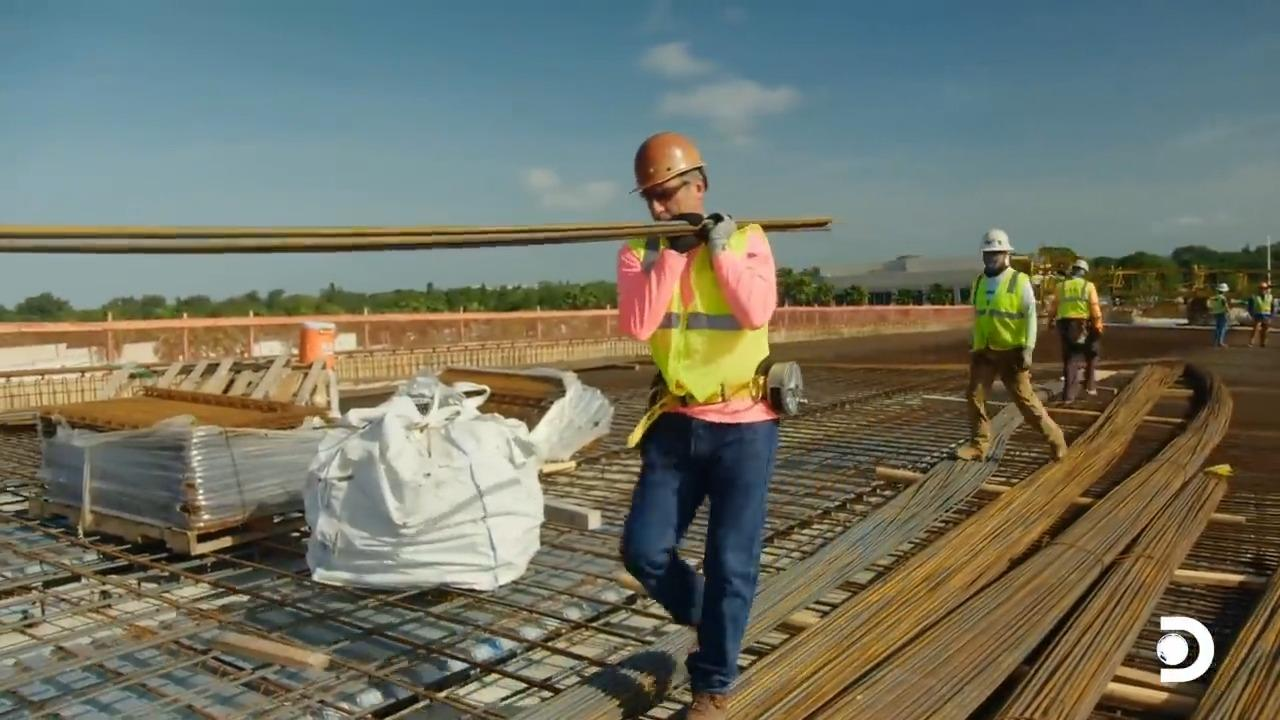Gloves: (673, 210, 733, 250), (1016, 345, 1037, 371)
Helmet: (631, 131, 706, 194), (980, 228, 1014, 252), (1071, 258, 1089, 273), (1214, 282, 1229, 291)
Person: (614, 131, 782, 718), (953, 228, 1068, 463), (1046, 258, 1104, 406), (1246, 281, 1274, 348), (1206, 282, 1231, 348)
Safety Boot: (679, 689, 730, 720), (956, 441, 990, 462)
Safety Vest: (637, 251, 769, 406), (975, 280, 1025, 350), (1058, 281, 1090, 324), (1253, 296, 1270, 317), (1214, 297, 1227, 315)
